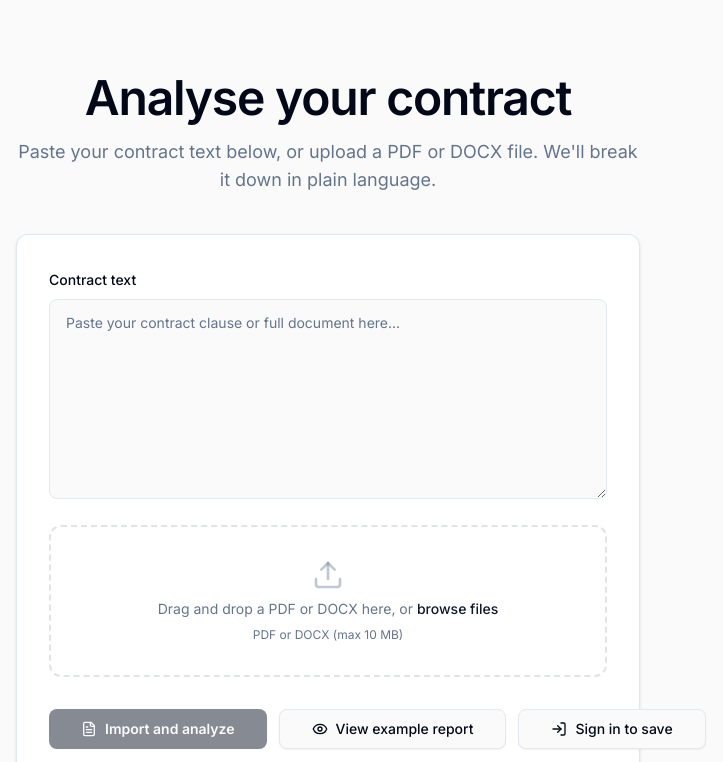
Test case: Analyze page — truncated document gating › shows review-later hint text
In the text box with placeholder "Paste your contract clause or full document here...": x=328, y=399 [49, 299, 607, 499], type "some contract text"
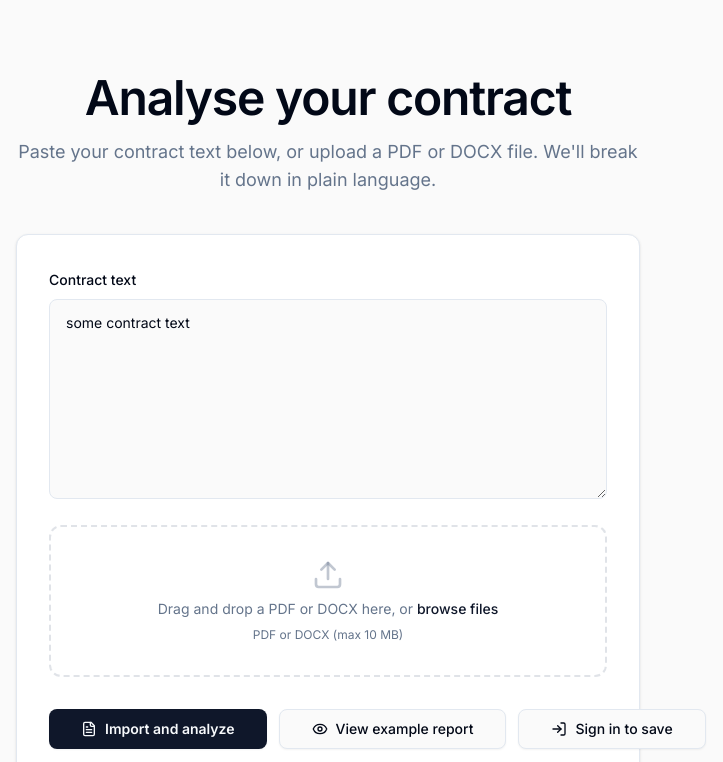
Click the button "Import and analyze": x=158, y=729 [49, 709, 266, 749]
(page scrolled)
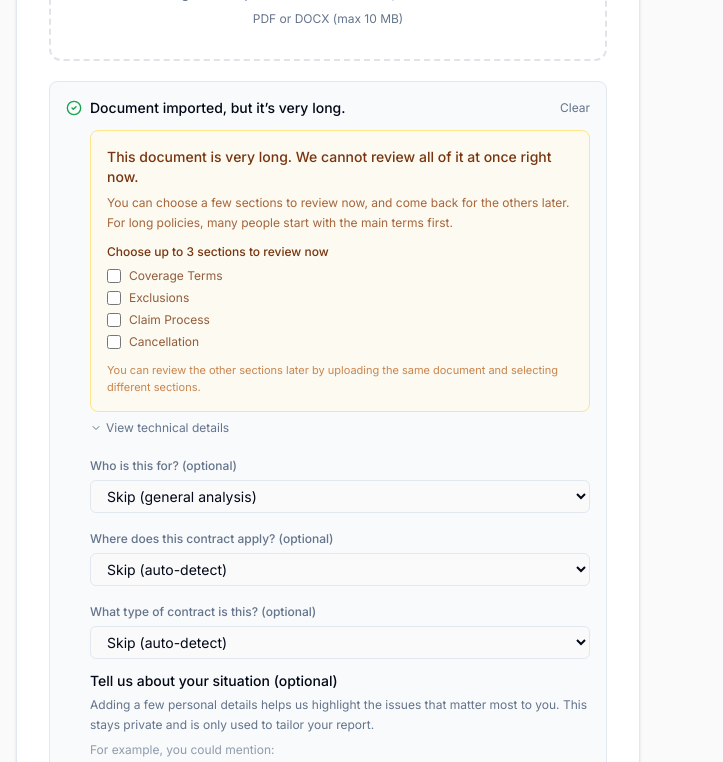
Expected: the text "Document imported, but it’s very long." is shown, [90, 98, 346, 118]
Expected: the text with test id "review-later-hint" is shown, [107, 362, 573, 395]
Expected: the text "review the other sections later" is shown, [107, 363, 558, 394]
